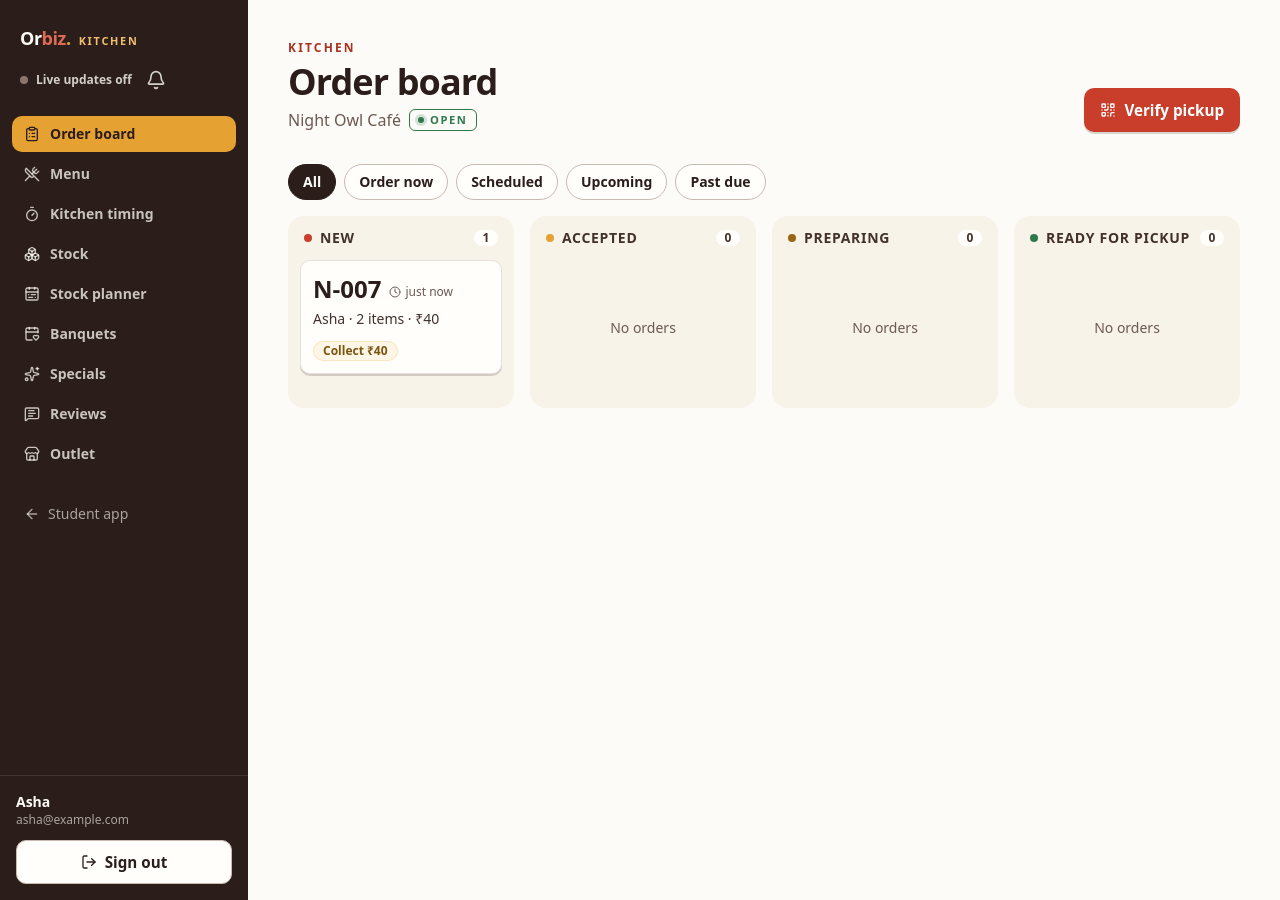
Test: manager order board › lets staff mark a packaged line of a scheduled order as not resellable, with a reason
Click the button named "Open order N-007" at (401, 301), box [313,273,489,329]
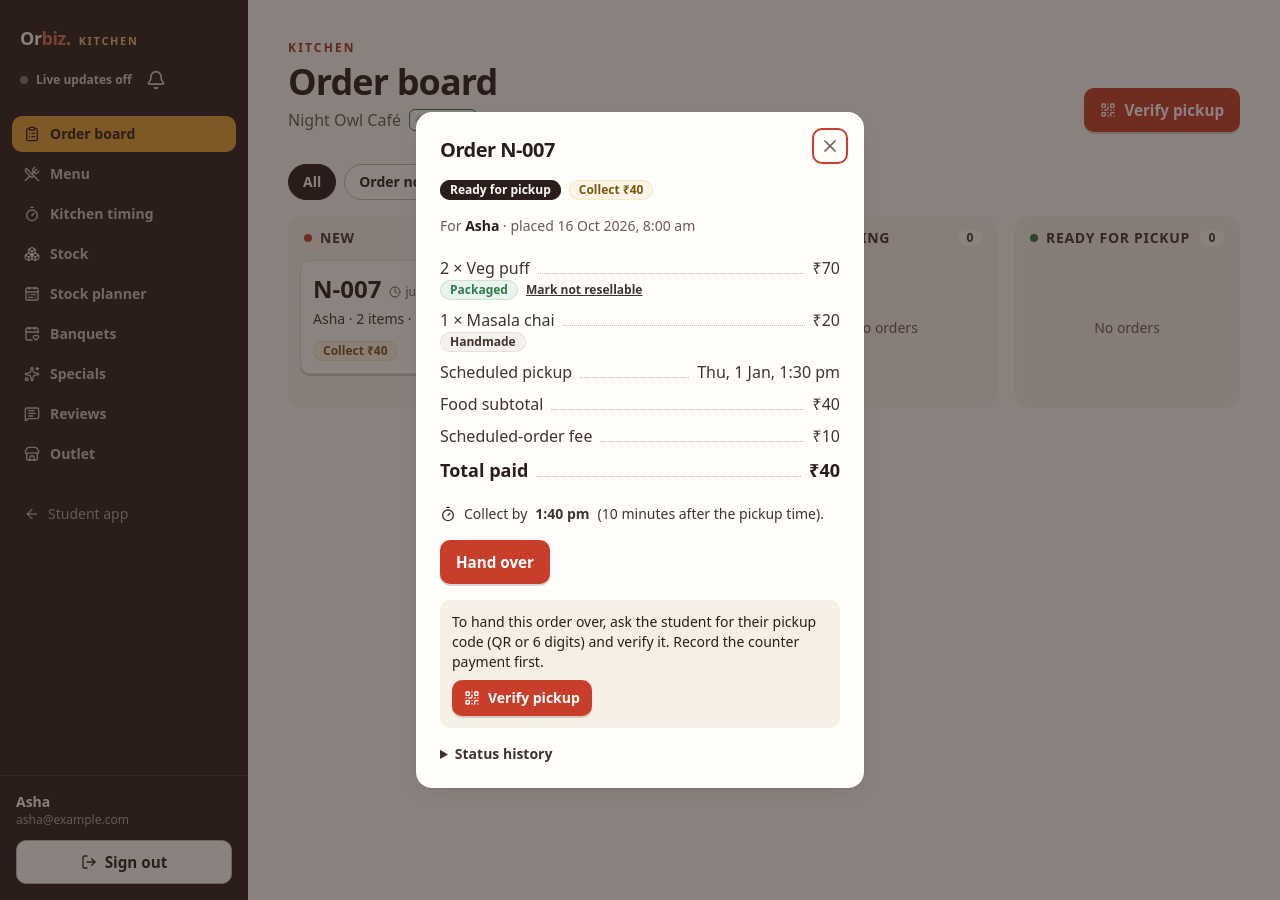
Now the text "Packaged" is shown, box [440,280,518,300]
Now the text "Handmade" is shown, box [440,332,526,352]
Now the text "Collect by 1:40 pm (10 minutes after the pickup time)." is shown, box [440,504,840,524]
Click the button "Mark not resellable" at (584, 290), box [526,282,642,298]
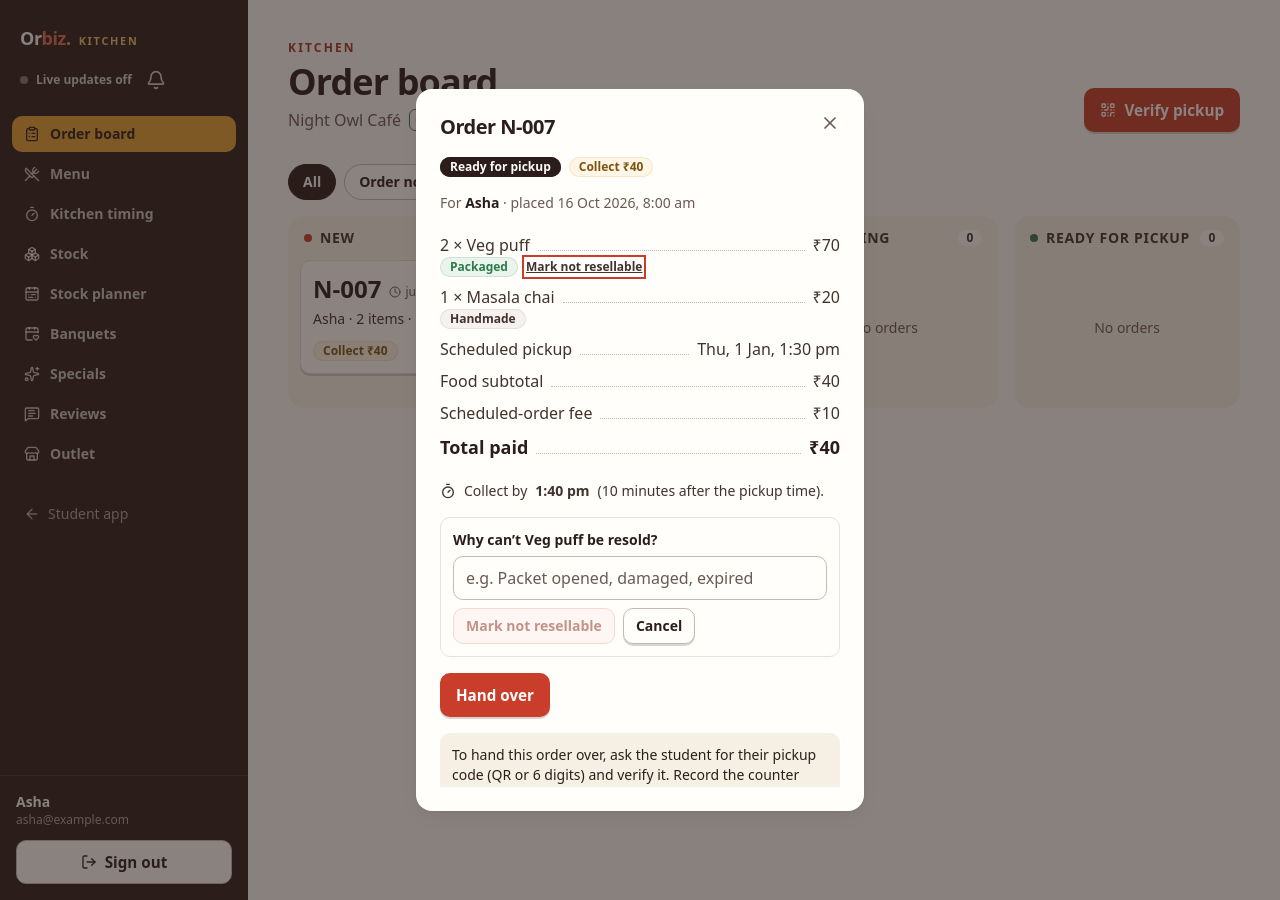
Now the button "Mark not resellable" below "Why can’t Veg puff be resold?" is disabled, box [453,608,615,644]
Type "Packet torn" into the field labelled "Why can’t Veg puff be resold?" at (640, 578), box [466,557,814,599]
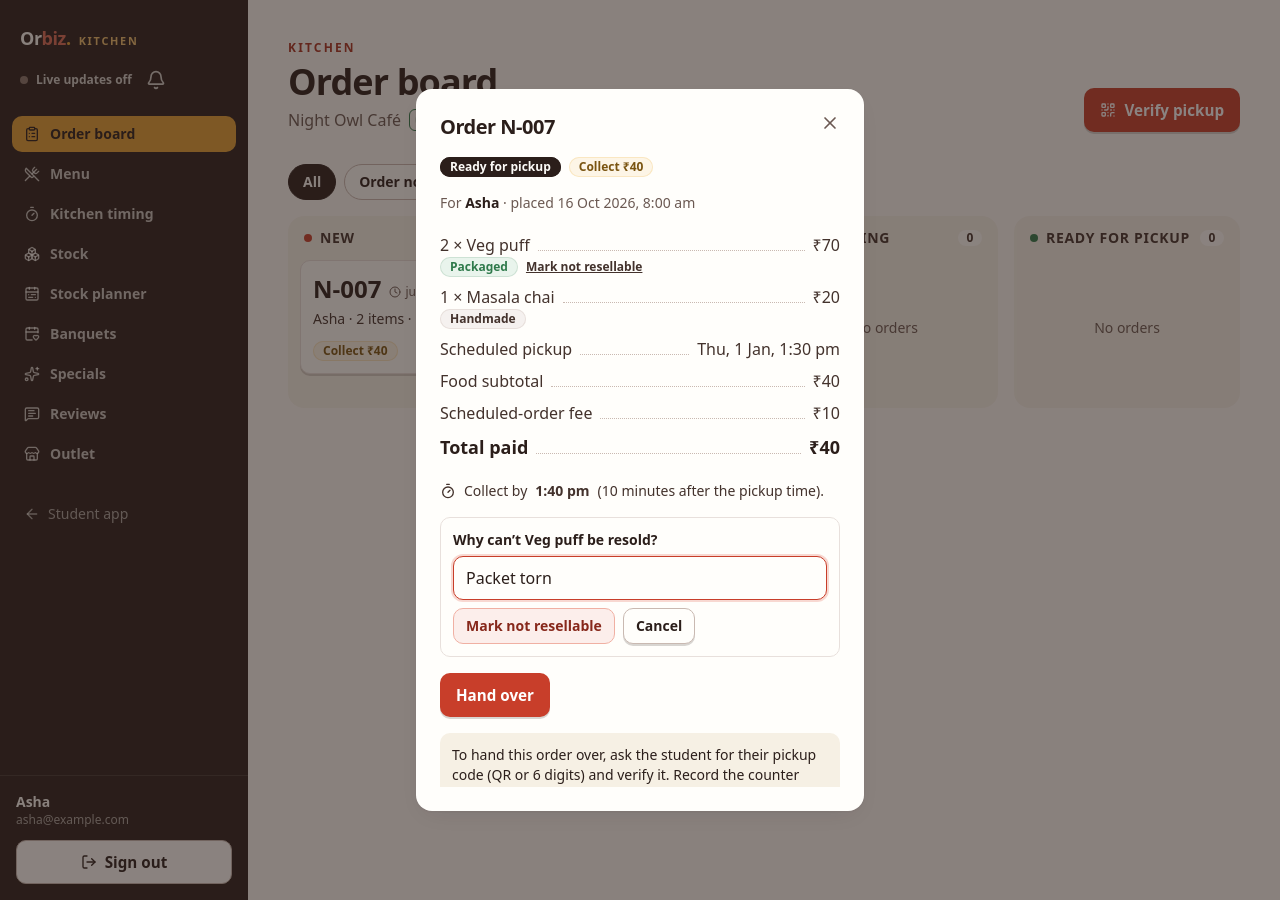
Click the button "Mark not resellable" below "Why can’t Veg puff be resold?" at (534, 626), box [453,608,615,644]
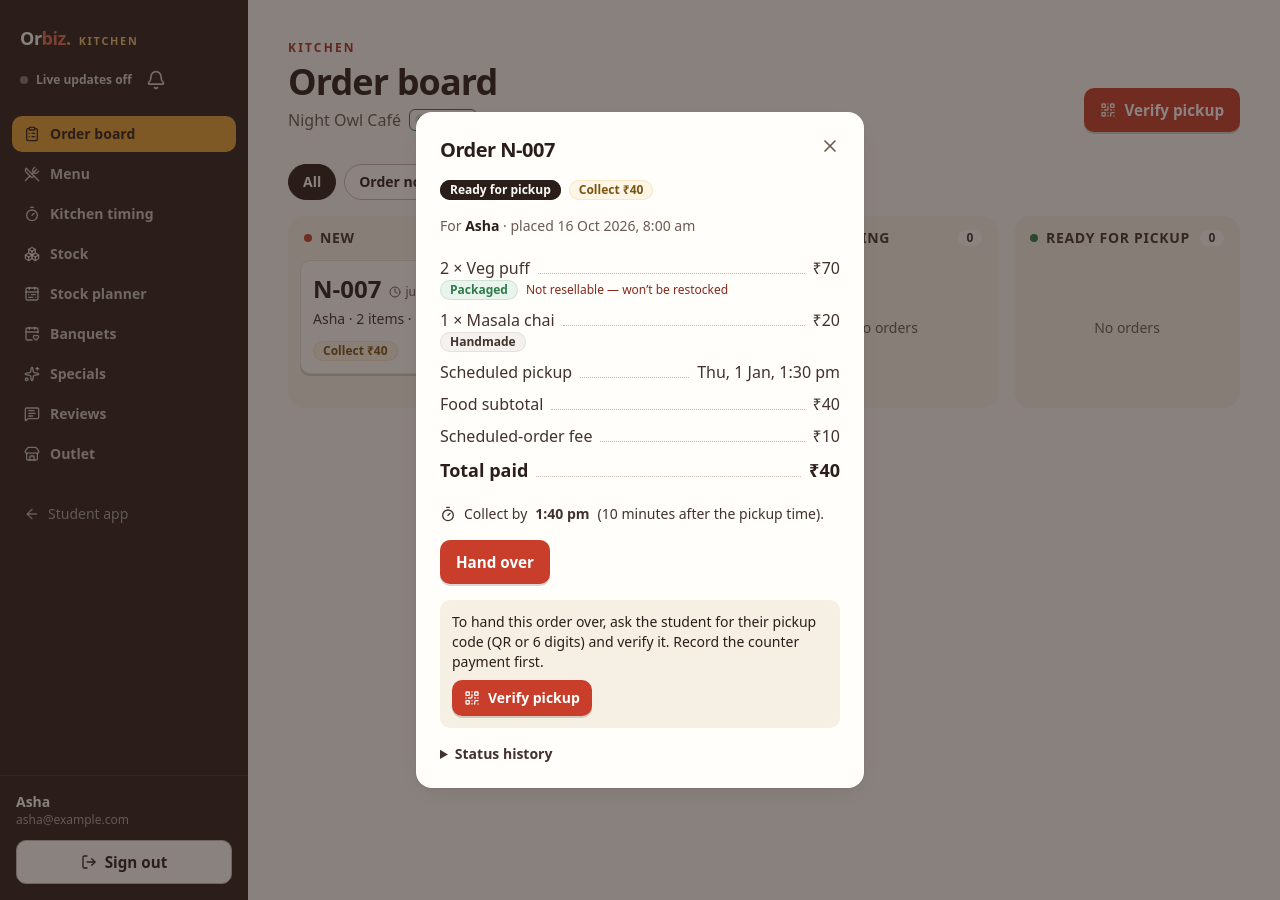
Now the text "Not resellable — won’t be restocked" is shown, box [526,282,728,298]
